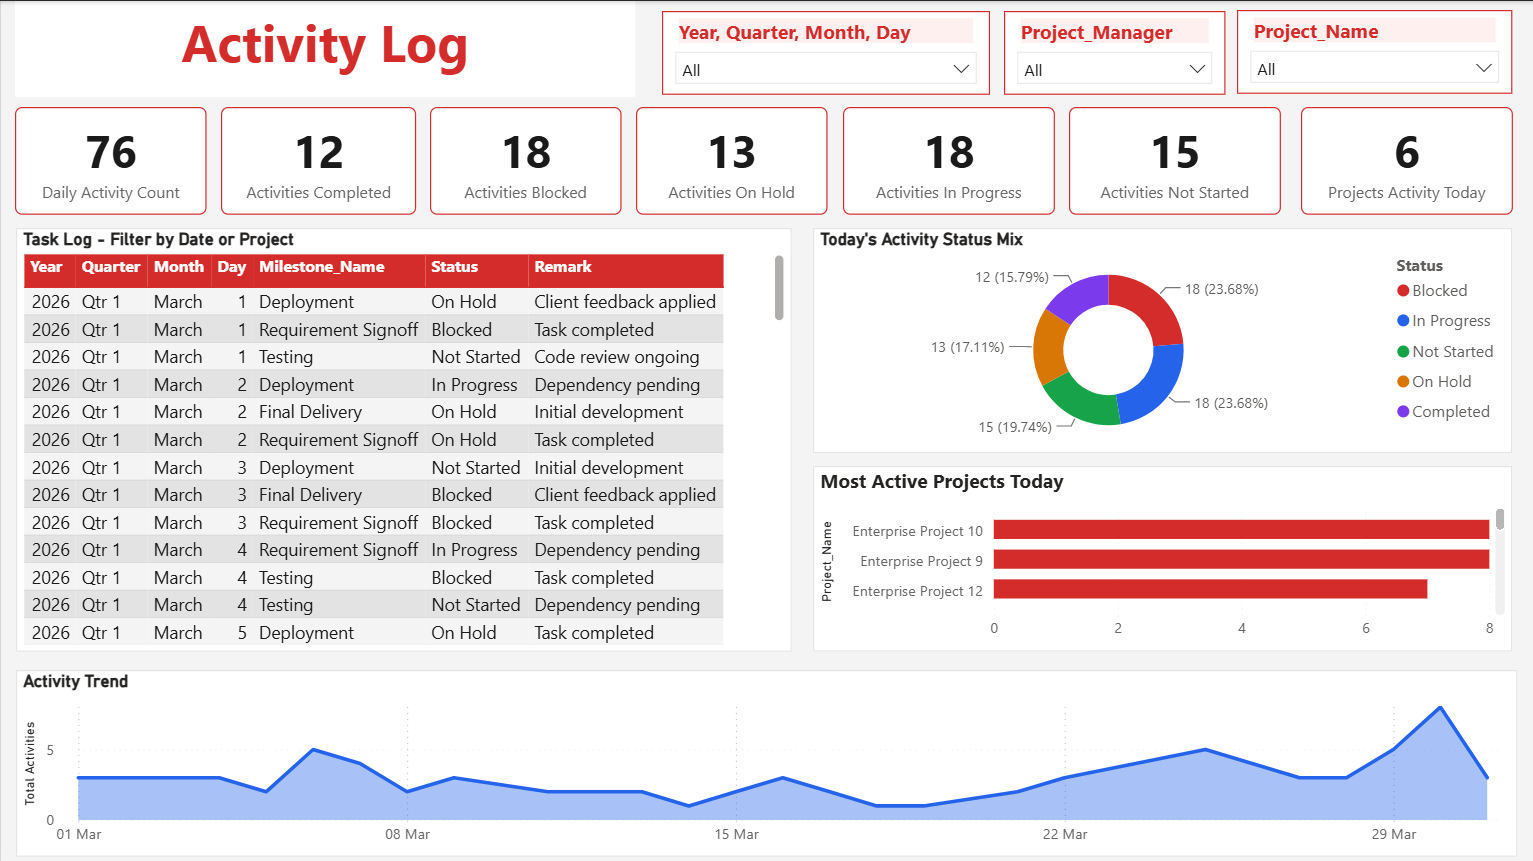

What the dashboard file says about the page in this screenshot:
{"tool":"powerbi","page":{"name":"Activity","canvas":[1280,720],"ordinal":1},"visuals":[{"type":"card","fields":{"Values":["_Measures.Daily Activity Count"]},"box":[11.7,88.3,160,90],"z":0},{"type":"card","fields":{"Values":["_Measures.Activities Completed"]},"box":[183.8,88.3,163.1,90],"z":1000},{"type":"card","fields":{"Values":["_Measures.Activities Blocked"]},"box":[358.5,88.4,159.7,90.1],"z":2000},{"type":"card","fields":{"Values":["_Measures.Activities On Hold"]},"box":[530.1,88.4,159.7,90.1],"z":3000},{"type":"card","fields":{"Values":["_Measures.Active Projects by Activity"]},"box":[1085.7,88.4,176.7,90.1],"z":4000},{"type":"donutChart","title":"Today''s Activity Status Mix","fields":{"Category":["Daily_Activity.Status"],"Y":["_Measures.Total Activities"]},"box":[678.4,189.3,584.5,187.8],"z":5000},{"type":"areaChart","title":"Activity Trend","fields":{"Y":["_Measures.Total Activities"],"Category":["Daily_Activity.Date.Variation.Date Hierarchy.Year","Daily_Activity.Date.Variation.Date Hierarchy.Quarter","Daily_Activity.Date.Variation.Date Hierarchy.Month","Daily_Activity.Date.Variation.Date Hierarchy.Day"]},"box":[12.5,559,1254,156.3],"z":6000},{"type":"tableEx","title":"Task Log - Filter by Date or Project","fields":{"Values":["Daily_Activity.Date.Variation.Date Hierarchy.Year","Daily_Activity.Date.Variation.Date Hierarchy.Quarter","Daily_Activity.Date.Variation.Date Hierarchy.Month","Daily_Activity.Date.Variation.Date Hierarchy.Day","Daily_Activity.Milestone_Name","Daily_Activity.Status","Daily_Activity.Remark"]},"box":[12.1,189.3,648.1,354.3],"z":7000},{"type":"slicer","fields":{"Values":["Project_Master.Project_Manager"]},"box":[837.7,8.5,185.2,69.7],"z":8000},{"type":"textbox","box":[11.9,0,518.2,79.9],"z":9000},{"type":"slicer","fields":{"Values":["Project_Master.Project_Name"]},"box":[1032.2,7.8,230,70],"z":10000},{"type":"barChart","title":"Most Active Projects Today","fields":{"Y":["_Measures.Total Activities"],"Category":["Project_Master.Project_Name"]},"box":[678.3,388.7,583.9,154.5],"z":11000},{"type":"slicer","fields":{"Values":["Project_Master.Start_Date.Variation.Date Hierarchy.Year","Project_Master.Start_Date.Variation.Date Hierarchy.Quarter","Project_Master.Start_Date.Variation.Date Hierarchy.Month","Project_Master.Start_Date.Variation.Date Hierarchy.Day"]},"box":[552.2,8.5,273.6,69.7],"z":12000},{"type":"card","fields":{"Values":["_Measures.Activities In Progress"]},"box":[703.4,88.4,176.7,90.1],"z":13000},{"type":"card","fields":{"Values":["_Measures.Activities Not Started"]},"box":[892,88.4,176.7,90.1],"z":14000}]}

Visuals, with their boxes in screenshot pixels (x1, y1, x2, y2), scaled from the page's 1280x720 canvas onto the 1533x861 screenshot:
card - _Measures.Daily Activity Count: left=14, top=106, right=206, bottom=213
card - _Measures.Activities Completed: left=220, top=106, right=415, bottom=213
card - _Measures.Activities Blocked: left=429, top=106, right=621, bottom=213
card - _Measures.Activities On Hold: left=635, top=106, right=826, bottom=213
card - _Measures.Active Projects by Activity: left=1300, top=106, right=1512, bottom=213
"Today''s Activity Status Mix" donutChart: left=812, top=226, right=1513, bottom=451
"Activity Trend" areaChart: left=15, top=668, right=1517, bottom=855
"Task Log - Filter by Date or Project" tableEx: left=14, top=226, right=791, bottom=650
slicer - Project_Master.Project_Manager: left=1003, top=10, right=1225, bottom=94
textbox: left=14, top=0, right=635, bottom=96
slicer - Project_Master.Project_Name: left=1236, top=9, right=1512, bottom=93
"Most Active Projects Today" barChart: left=812, top=465, right=1512, bottom=650
slicer - Project_Master.Start_Date.Variation.Date Hierarchy.Year x Project_Master.Start_Date.Variation.Date Hierarchy.Quarter: left=661, top=10, right=989, bottom=94
card - _Measures.Activities In Progress: left=842, top=106, right=1054, bottom=213
card - _Measures.Activities Not Started: left=1068, top=106, right=1280, bottom=213
